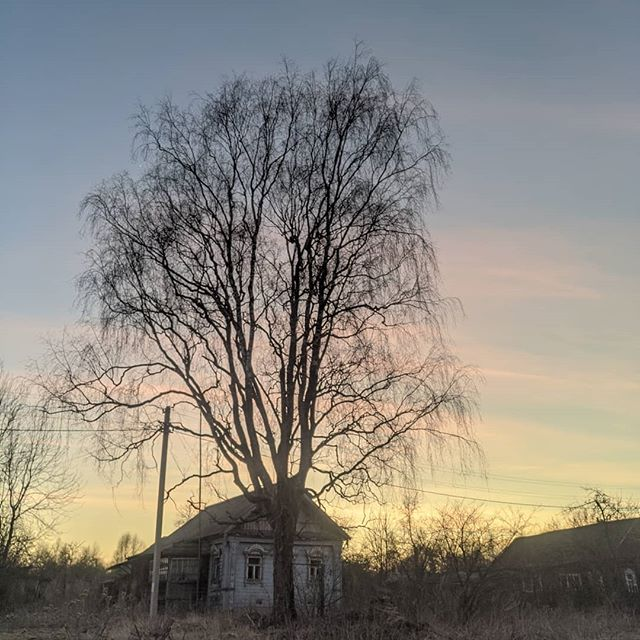building: (117, 483, 353, 633), (478, 512, 640, 604)
sky: (1, 1, 635, 493)
tree: (102, 78, 430, 640)
